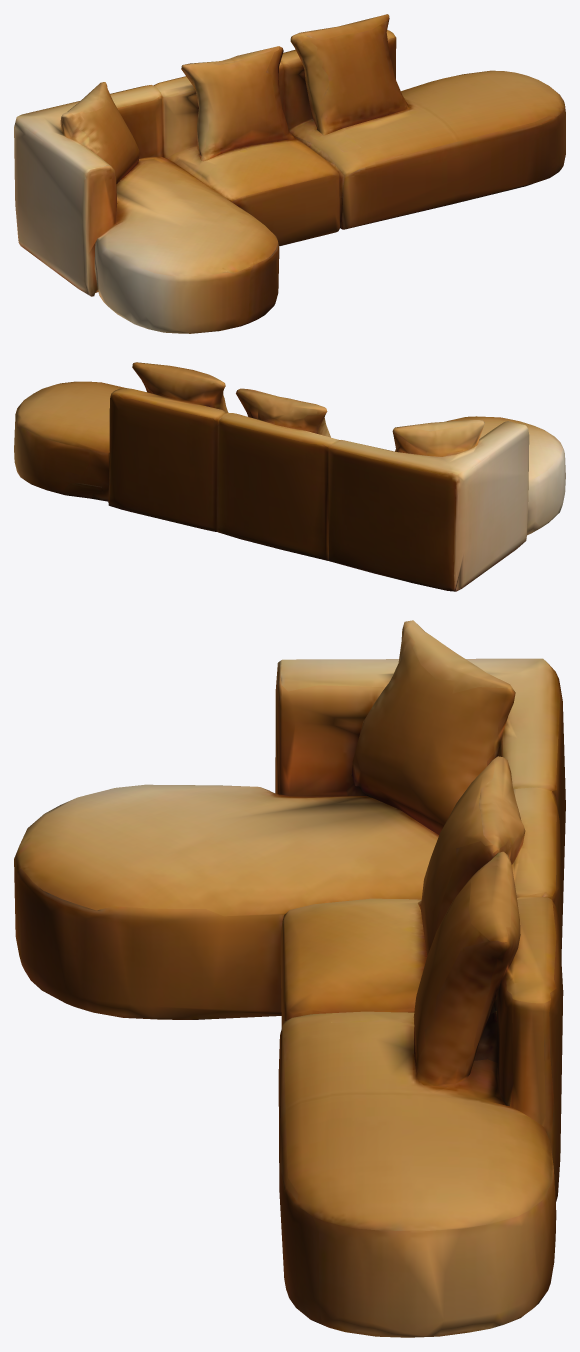
3 views of the same model, one above another, from view 1: azimuth 30°, elevation 25°; view 2: azimuth 150°, elevation 25°; view 3: azimuth 270°, elevation 25° (orthographic). The views are drawn at different scales.
Parts seen in each view (by area): view 1: geometry_0; view 2: geometry_0; view 3: geometry_0.
Boxes of the visible parts, <box> form: geometry_0: <box>14,14,565,333</box>; geometry_0: <box>14,362,565,591</box>; geometry_0: <box>14,620,565,1337</box>.
Size of the model in its own units: 0.9991 by 0.2906 by 0.5128.
1 material, 1 textured.
